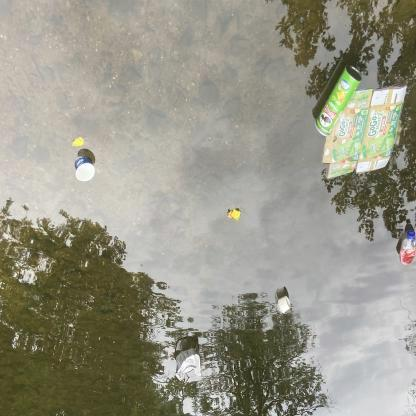Metal: (311, 60, 367, 140), (170, 340, 206, 390)
Plastic: (396, 217, 416, 277)
Trash: (72, 147, 101, 186), (272, 291, 292, 319)
